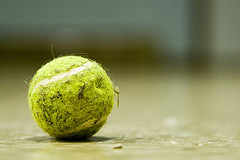tennis ball: (26, 54, 114, 142)
